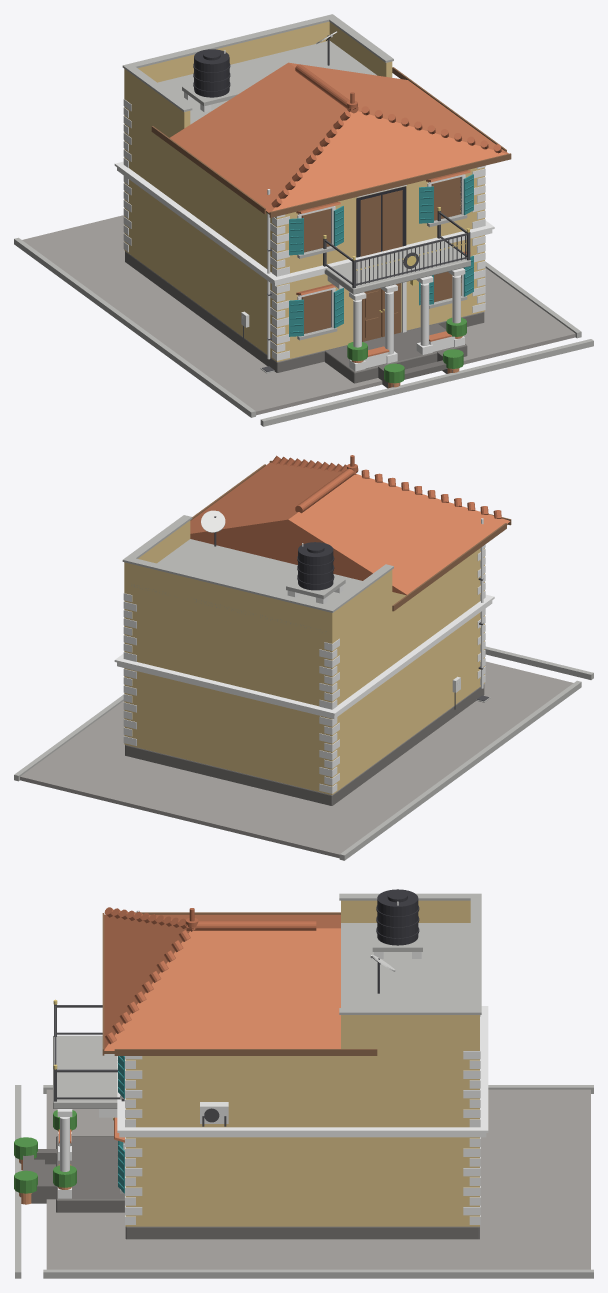
The model's file is coastal_residence.glb.
The picture shows the model from 3 angles, top to bottom: view 1: azimuth 30°, elevation 25°; view 2: azimuth 150°, elevation 25°; view 3: azimuth 270°, elevation 25°; orthographic projection. The views are drawn at different scales.
Visible parts, largest first — view 1: Building_StuccoOchre, Building_TerracottaRoof, Building_SidewalkCobble, Building_PrecastConcrete, Building_WhiteMoulding, Building_TeakTimber, Building_PlinthGranite, Building_CoastalTeal, Building_WroughtIron, Building_TerracottaRidge, Building_SintexBlackPVC, Building_TropicalLeaf (+1 smaller); view 2: Building_StuccoOchre, Building_SidewalkCobble, Building_TerracottaRoof, Building_PrecastConcrete, Building_WhiteMoulding, Building_PlinthGranite, Building_TerracottaRidge, Building_SintexBlackPVC, Building_TeakTimber, Building_ACEnclosure; view 3: Building_StuccoOchre, Building_SidewalkCobble, Building_TerracottaRoof, Building_PrecastConcrete, Building_WhiteMoulding, Building_PlinthGranite, Building_TerracottaRidge, Building_TeakTimber, Building_SintexBlackPVC, Building_TropicalLeaf, Building_WroughtIron, Building_CoastalTeal (+1 smaller).
Part boxes in pixels (x1=…): Building_StuccoOchre: x1=124, y1=21, x2=484, y2=361; Building_TerracottaRoof: x1=170, y1=62, x2=508, y2=356; Building_SidewalkCobble: x1=22, y1=215, x2=575, y2=415; Building_PrecastConcrete: x1=14, y1=14, x2=593, y2=426; Building_WhiteMoulding: x1=114, y1=34, x2=494, y2=371; Building_TeakTimber: x1=151, y1=67, x2=511, y2=341; Building_PlinthGranite: x1=125, y1=251, x2=484, y2=388; Building_CoastalTeal: x1=289, y1=174, x2=473, y2=336; Building_WroughtIron: x1=243, y1=34, x2=470, y2=371; Building_TerracottaRidge: x1=271, y1=64, x2=501, y2=207; Building_SintexBlackPVC: x1=193, y1=49, x2=230, y2=97; Building_TropicalLeaf: x1=347, y1=317, x2=466, y2=383; Building_StuccoOchre: x1=124, y1=520, x2=484, y2=794; Building_SidewalkCobble: x1=20, y1=661, x2=573, y2=858; Building_TerracottaRoof: x1=190, y1=462, x2=510, y2=595; Building_PrecastConcrete: x1=14, y1=515, x2=593, y2=860; Building_WhiteMoulding: x1=114, y1=511, x2=494, y2=793; Building_PlinthGranite: x1=125, y1=684, x2=484, y2=805; Building_TerracottaRidge: x1=271, y1=455, x2=501, y2=518; Building_SintexBlackPVC: x1=297, y1=542, x2=334, y2=590; Building_TeakTimber: x1=190, y1=460, x2=511, y2=611; Building_ACEnclosure: x1=201, y1=510, x2=460, y2=692; Building_StuccoOchre: x1=125, y1=900, x2=479, y2=1226; Building_SidewalkCobble: x1=46, y1=1089, x2=590, y2=1269; Building_TerracottaRoof: x1=58, y1=914, x2=340, y2=1165; Building_PrecastConcrete: x1=15, y1=893, x2=593, y2=1278; Building_WhiteMoulding: x1=57, y1=901, x2=488, y2=1224; Building_PlinthGranite: x1=20, y1=1136, x2=479, y2=1239; Building_TerracottaRidge: x1=104, y1=907, x2=316, y2=1044; Building_TeakTimber: x1=102, y1=912, x2=377, y2=1055; Building_SintexBlackPVC: x1=376, y1=889, x2=419, y2=945; Building_TropicalLeaf: x1=14, y1=1110, x2=76, y2=1193; Building_WroughtIron: x1=54, y1=956, x2=380, y2=1126; Building_CoastalTeal: x1=118, y1=1056, x2=124, y2=1193.
Size of what is drawn, in the model's own units: 14 by 9.62 by 18.33.
